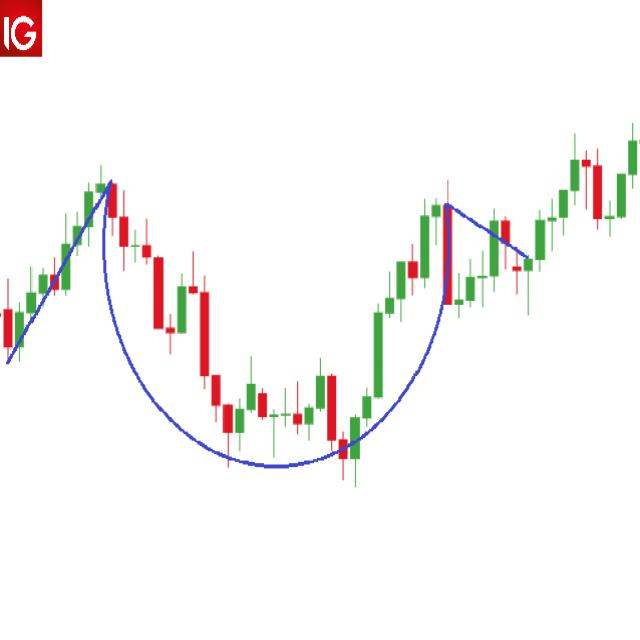Cup-and-handle: (92, 154, 596, 478)
